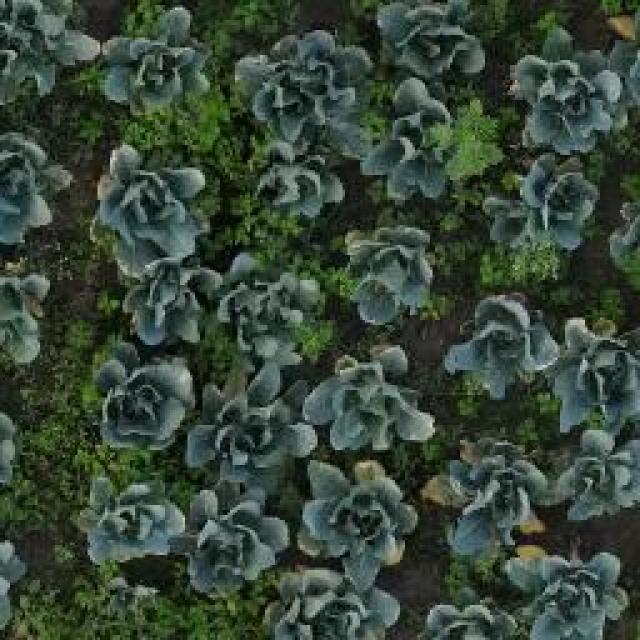cabbage: (504, 42, 626, 151), (285, 460, 395, 578), (88, 145, 198, 263), (179, 473, 288, 585), (444, 290, 558, 392), (191, 374, 300, 476), (489, 160, 599, 260), (321, 356, 432, 455), (75, 479, 186, 576), (362, 85, 458, 195), (246, 34, 355, 130), (444, 435, 540, 543), (103, 14, 206, 114), (95, 349, 194, 452), (338, 225, 441, 321), (222, 262, 322, 356), (526, 555, 633, 640), (382, 1, 486, 87), (552, 316, 640, 416), (120, 261, 221, 346), (245, 139, 339, 227), (563, 436, 640, 514)
